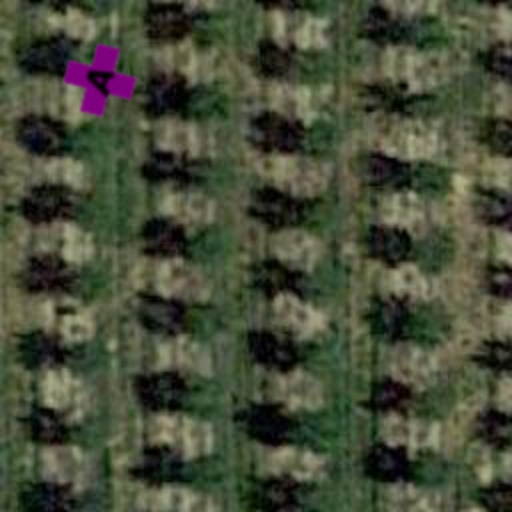cross: (56, 36, 144, 124)
